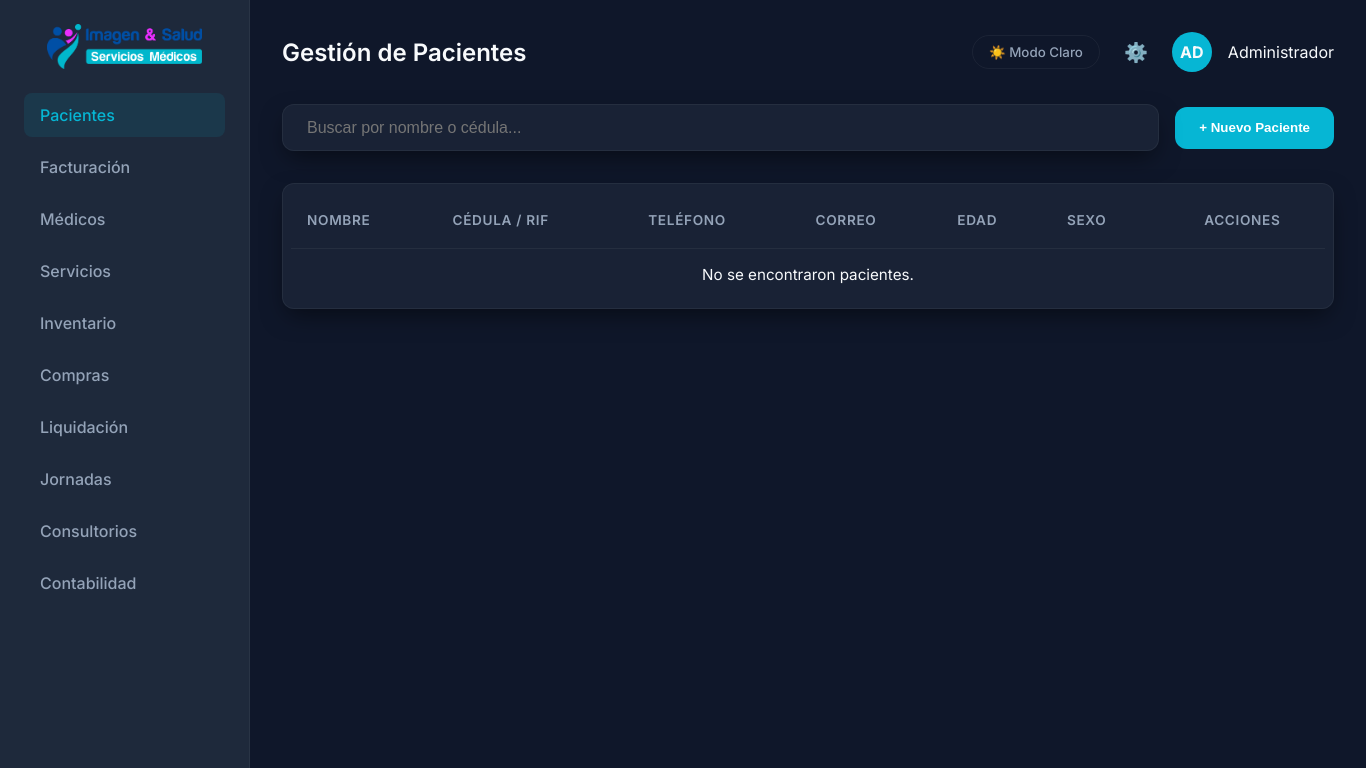
it: Services Integration Tests › should render Services page without errors
Click the list item "Servicios" at (76, 271), box [40,261,111,281]
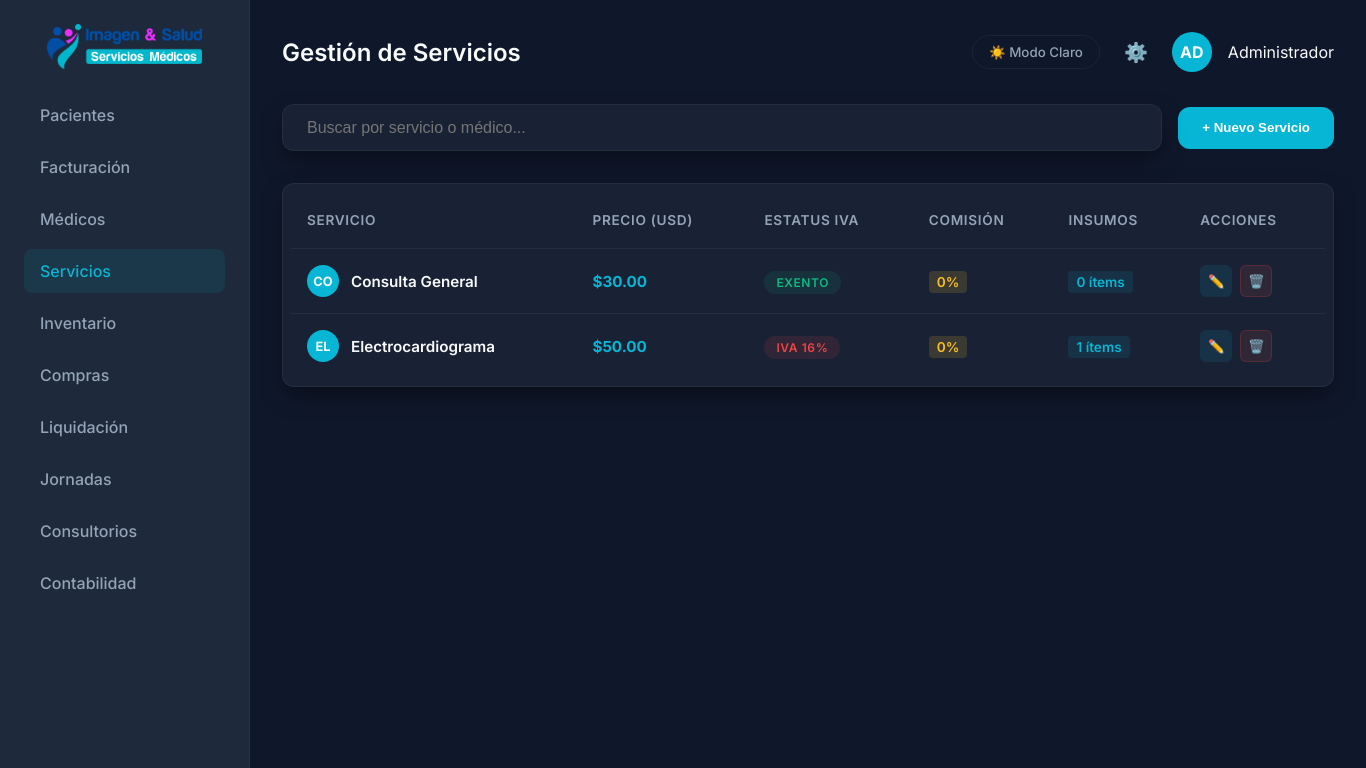
Expected: the heading "Gestión de Servicios" is shown, [282,38,521,66]
